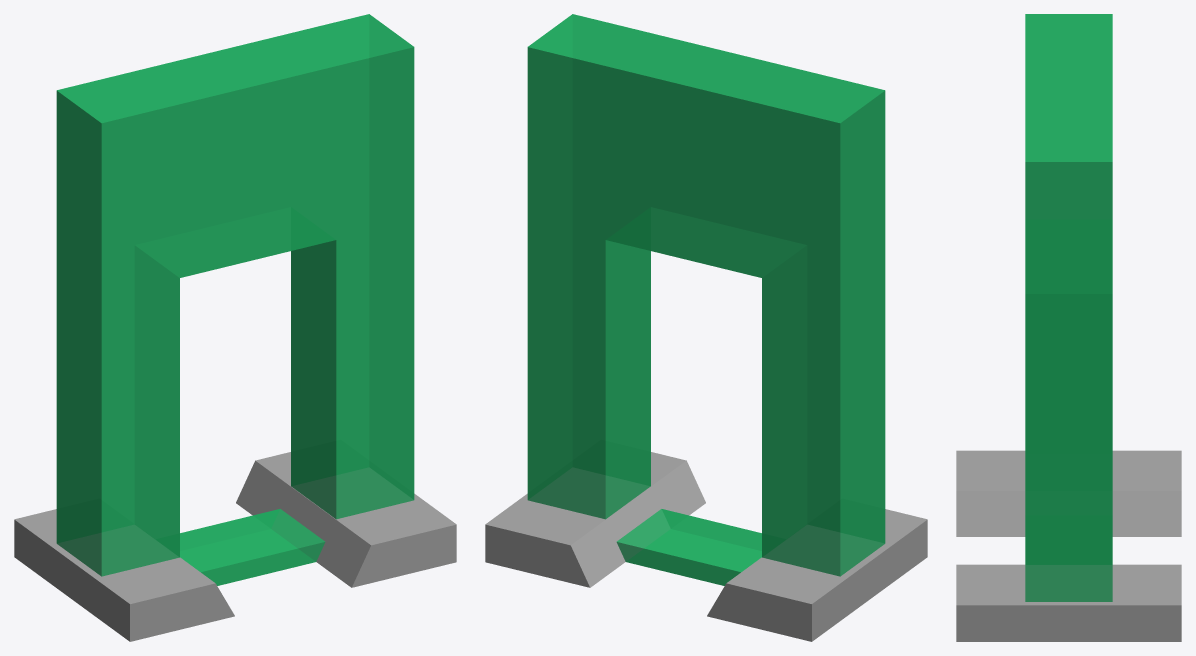
The model's file is Wall_S_DoorWood_COL.fbx.
3 views of the same model, side by side, from view 1: azimuth 30°, elevation 25°; view 2: azimuth 150°, elevation 25°; view 3: azimuth 270°, elevation 25° (orthographic). The views are drawn at different scales.
Parts seen in each view (by area): view 1: polySurface185; view 2: polySurface185; view 3: polySurface185.
Part boxes in pixels (x1=…): polySurface185: x1=14, y1=14, x2=456, y2=641; polySurface185: x1=485, y1=14, x2=927, y2=641; polySurface185: x1=956, y1=14, x2=1181, y2=641.
Bounding box in the file's own units: 4.01 × 5.76 × 2.47.
